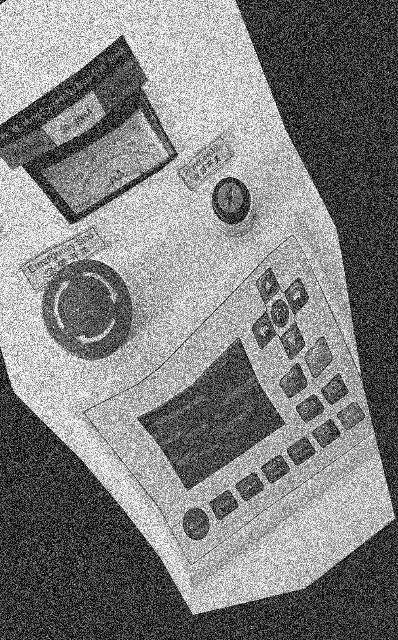Amp_Meter: (42, 109, 172, 214)
Display: (139, 340, 284, 490)
Down_button: (281, 322, 305, 359)
Emergency_Stop: (42, 259, 132, 360)
Enter_button: (305, 337, 332, 378)
Esc_button: (280, 363, 307, 397)
File_button: (313, 419, 340, 447)
Frame_button: (322, 373, 348, 405)
Left_button: (252, 312, 275, 349)
Max-Power_button: (287, 437, 315, 465)
Min-Power_button: (262, 455, 290, 483)
Origin_button: (296, 395, 324, 422)
Power_switch: (211, 177, 255, 234)
Pulse_button: (210, 490, 238, 520)
Reset_button: (183, 508, 209, 540)
Right_button: (285, 278, 309, 314)
Speed_button: (236, 473, 264, 501)
Start-Pause_button: (337, 402, 365, 430)
Up_button: (256, 268, 280, 304)
Z_U_button: (272, 299, 289, 327)
